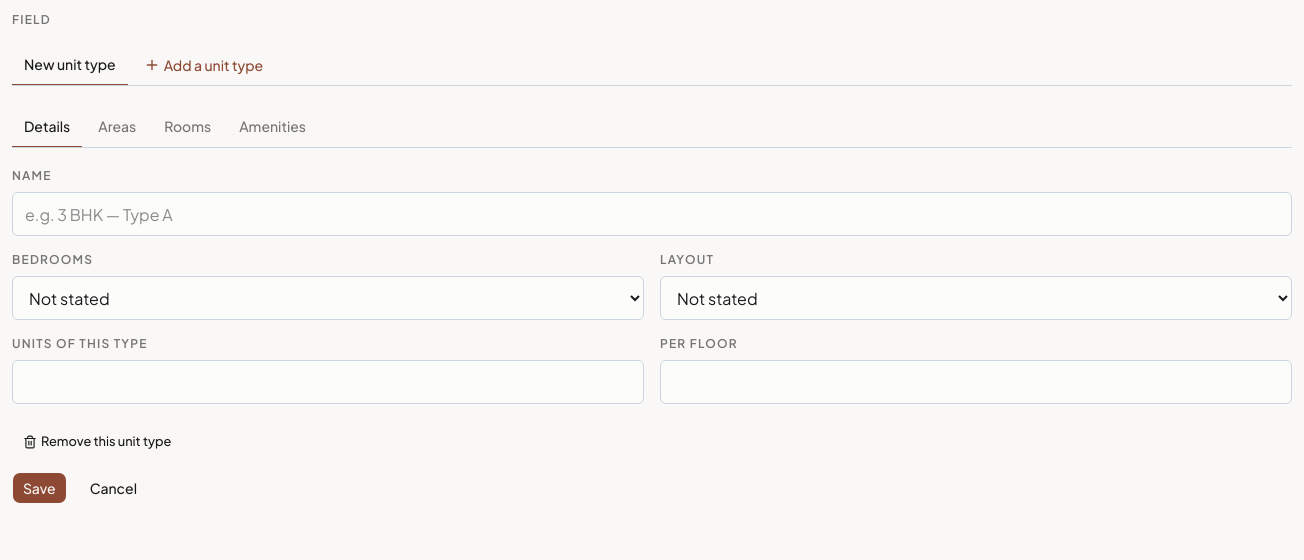
Test: FieldEditor › blocks a unit type with no name and says why
Click the button "Save" at {"x": 39, "y": 488}, box x1=12 y1=472 x2=67 y2=504
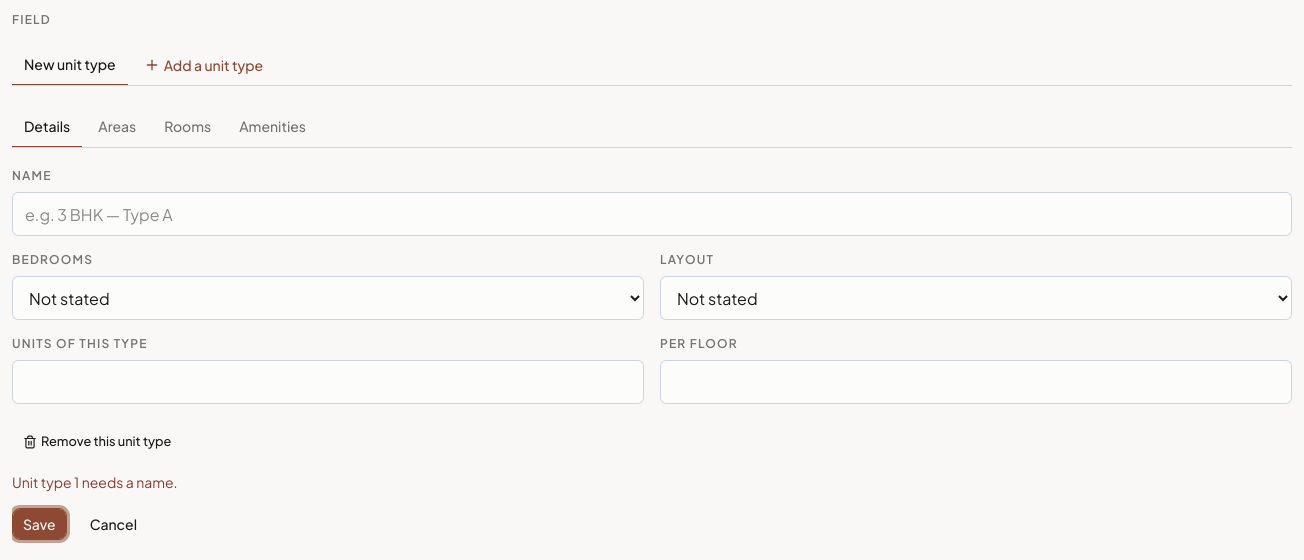
Expected: the message shows "needs a name", x1=12 y1=473 x2=178 y2=491
